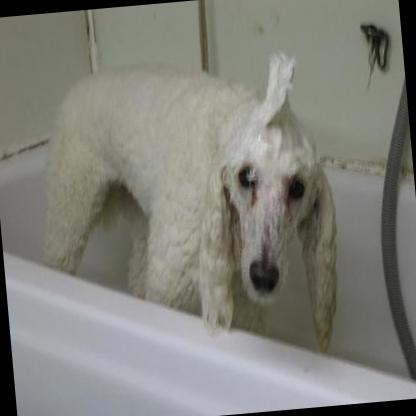standard_poodle: (24, 45, 349, 378)
